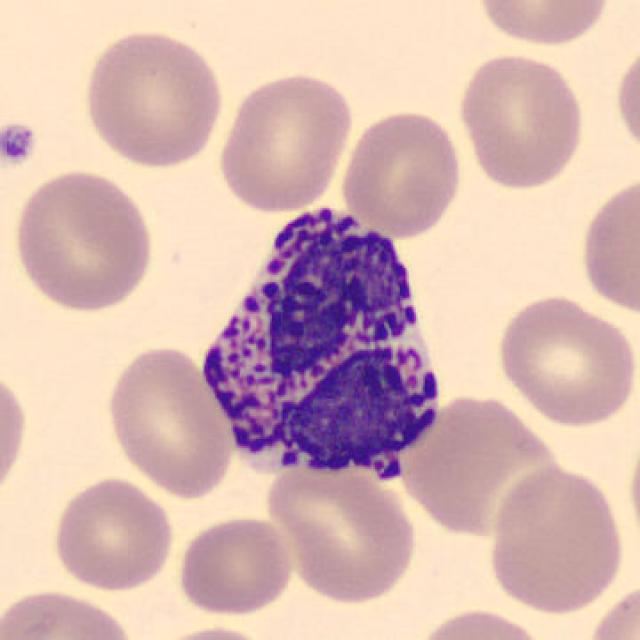Basophil: (188, 192, 457, 499)
Platelets: (0, 118, 39, 169)
RBC: (259, 448, 422, 606), (482, 458, 628, 617), (9, 166, 158, 316), (101, 340, 236, 501), (78, 25, 226, 171), (214, 69, 356, 215), (492, 291, 636, 430), (454, 48, 588, 192), (418, 400, 562, 534), (338, 106, 466, 240), (48, 474, 178, 594), (174, 511, 297, 619), (574, 171, 638, 319), (2, 585, 140, 640), (472, 0, 613, 49), (407, 604, 553, 640), (0, 363, 32, 506), (581, 578, 640, 640), (611, 39, 640, 164), (140, 622, 278, 640), (626, 420, 640, 560)
